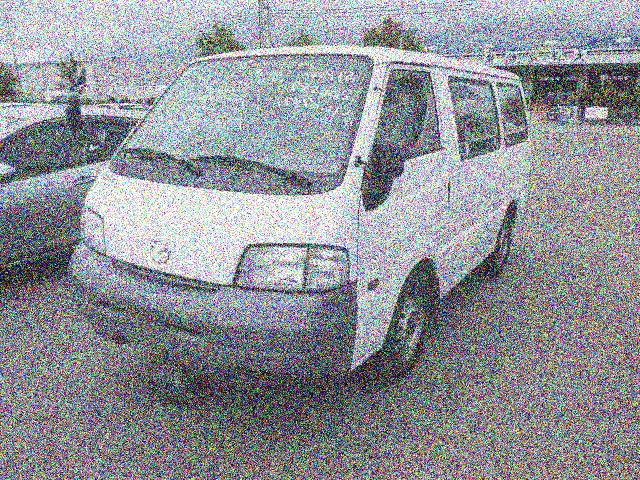van: (71, 44, 533, 389)
